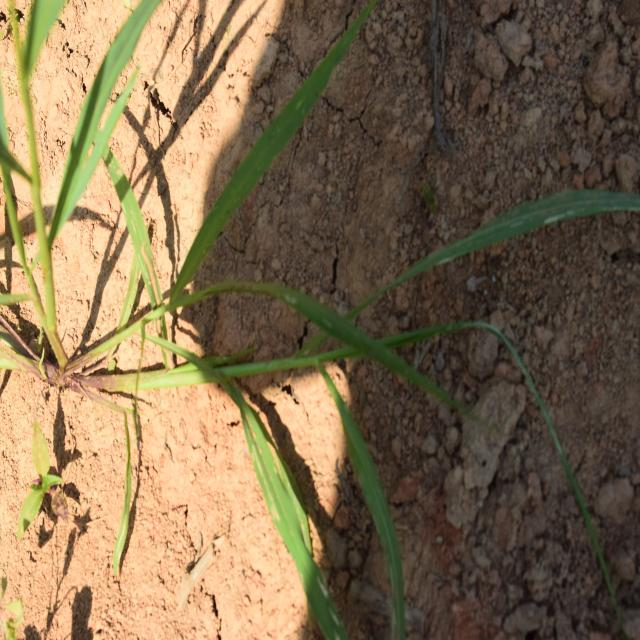green_foxtail: (148, 91, 454, 582)
